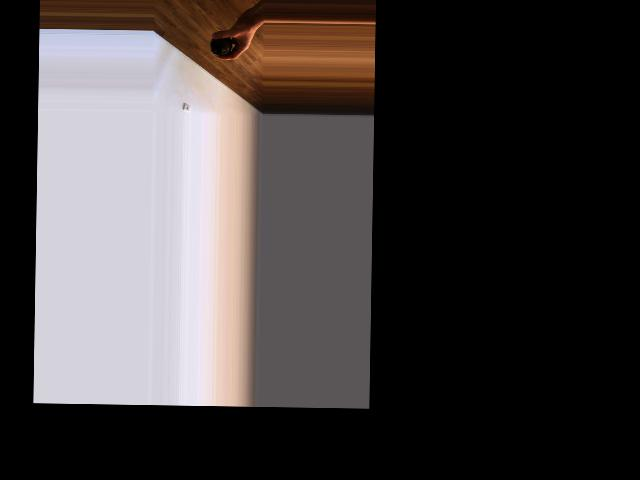beet: (209, 27, 232, 56)
